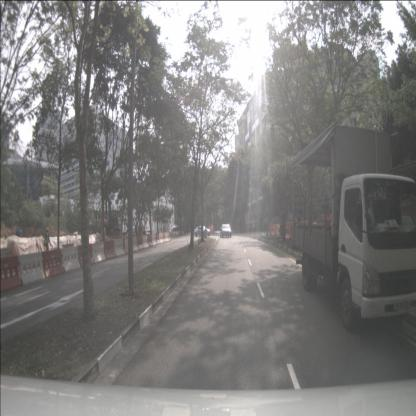barrier: (17, 252, 46, 288), (0, 254, 22, 292), (41, 248, 65, 278), (61, 246, 82, 273), (77, 244, 95, 268), (91, 241, 107, 263), (102, 239, 116, 260), (112, 238, 125, 258), (284, 221, 296, 240), (122, 238, 132, 255), (131, 236, 139, 253), (276, 224, 286, 237), (141, 234, 149, 249), (146, 233, 154, 248), (136, 236, 144, 250), (268, 224, 277, 236), (152, 233, 158, 246), (158, 232, 164, 244), (155, 233, 161, 244), (165, 232, 169, 242), (167, 232, 171, 242), (162, 233, 166, 242)
